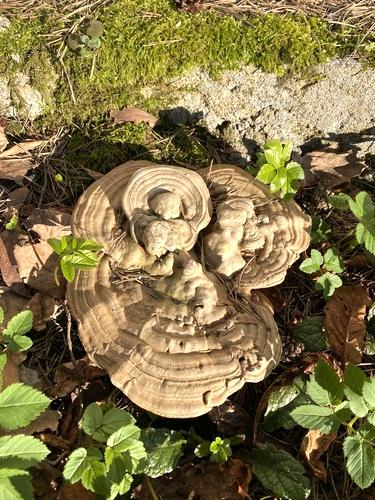Ganoderma - Fruit Body: (67, 157, 315, 417)
